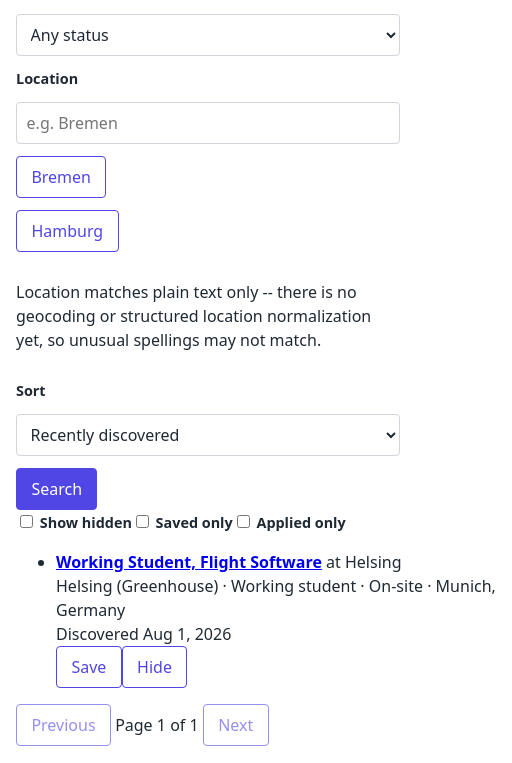
Test case: OpportunityListPage › short-circuits saved-only to zero rows via includeOpportunityIds: [] when nothing is saved, without a stale total
(page scrolled)
Expected: the text "Working Student, Flight Software" is shown, [56,551,322,573]
Click the checkbox labelled "Saved only": click(142, 521) [136,515,149,528]
(page scrolled)
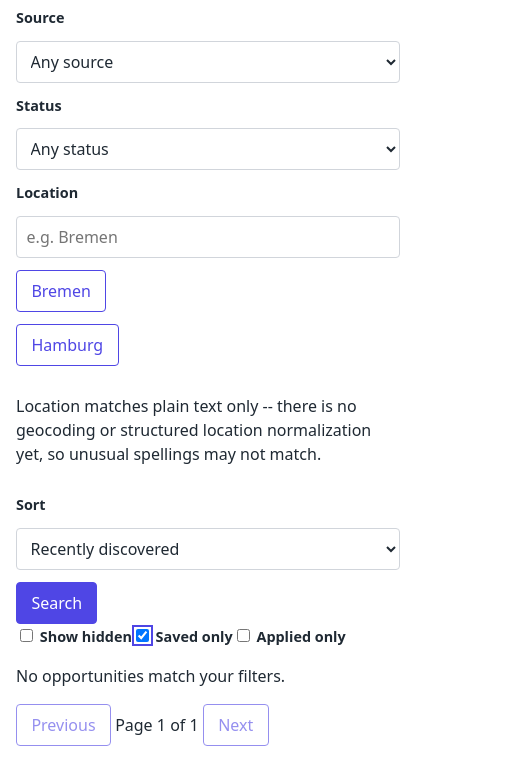
Expected: the text "Page 1 of 1" is shown, [111,714,203,736]
Expected: the text "No opportunities match your filters." is shown, [16,665,285,687]
